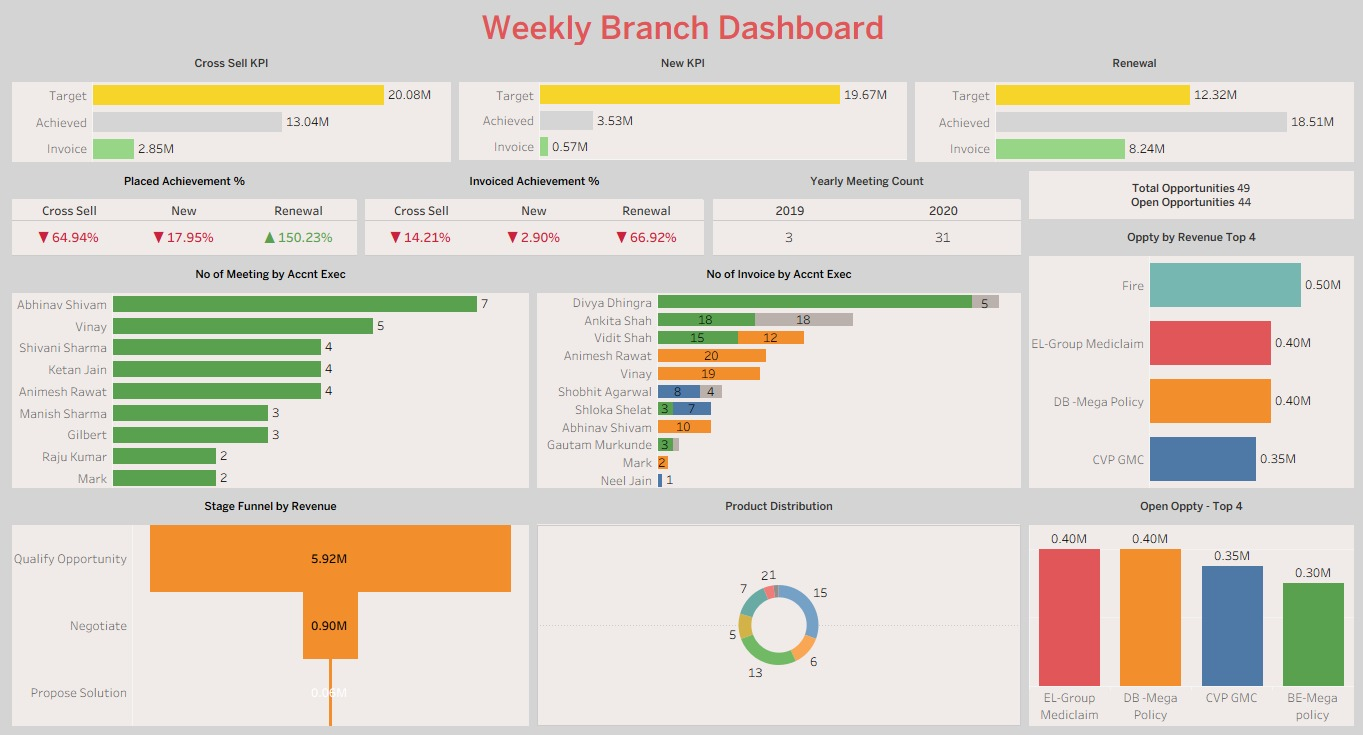

This screenshot's page, from the dashboard's own definition file:
{"tool":"tableau","page":{"name":"Weekly Branch Dashboard","canvas":[1000,1000],"units":"permille","ordinal":0},"visuals":[{"type":"text","box":[7,13.7,986,55.8]},{"type":"worksheet","title":"Cross Sell KPI","mark":"Automatic","box":[7,69.5,326.3,158.2]},{"type":"worksheet","title":"New KPI","mark":"Automatic","box":[333.3,69.5,333.4,158.2]},{"type":"worksheet","title":"Renewal KPI","mark":"Automatic","box":[666.6,69.5,326.4,158.2]},{"type":"worksheet","title":"Placed % Cards","mark":"Text","cols":["Calculation_1302436329992193"],"box":[7,227.7,258.1,125]},{"type":"worksheet","title":"Invoice % Cards","mark":"Text","cols":["Calculation_1302436329992193"],"box":[265.1,227.7,253.7,125]},{"type":"worksheet","title":"Yearly Meeting Count","mark":"Text","cols":["meeting_date"],"box":[518.8,227.7,231,125]},{"type":"worksheet","title":"Opportunity KPIs","mark":"Automatic","box":[749.8,227.7,243.2,75.3]},{"type":"worksheet","title":"Oppty by Revenue Top 4","mark":"Automatic","rows":["opportunity_name"],"cols":["revenue_amount"],"box":[749.8,303,243.2,363]},{"type":"worksheet","title":"Meetings by Exec","mark":"Automatic","rows":["Account Executive (meeting!list!202001231041)"],"cols":["meeting!list!202001231041_84411F9538AD4586827A4F2D97D018DF"],"box":[7,352.7,383.2,313.4]},{"type":"worksheet","title":"Invoices by Exec","mark":"Automatic","rows":["Account Executive (invoice!202001231041)"],"cols":["invoice!202001231041_B320B14825DB4EEDB93164D73A91ED6D"],"box":[390.2,352.7,359.6,313.4]},{"type":"worksheet","title":"Stage Funnel","mark":"GanttBar","rows":["stage"],"cols":["Calculation_1302712602550279"],"box":[7,666.1,383.2,320.2]},{"type":"worksheet","title":"Product Distribution","mark":"Pie","rows":["Calculation_1302712604336137","Calculation_1302712604356619"],"box":[390.2,666.1,359.6,320.2]},{"type":"worksheet","title":"Open Oppty - Top 4","mark":"Automatic","rows":["Calculation_1302712598863874"],"cols":["opportunity_name"],"box":[749.8,666.1,243.2,320.2]}]}

Visuals, with their boxes on the dashboard's canvas, which has no fixed pixel size, in thousandths of its width and height (x1, y1, x2, y2). These are canvas units, not pixel positions in the 1363x735 screenshot, which may show the page scaled, cropped or inside an application window:
text: region(7, 14, 993, 70)
"Cross Sell KPI" worksheet: region(7, 70, 333, 228)
"New KPI" worksheet: region(333, 70, 667, 228)
"Renewal KPI" worksheet: region(667, 70, 993, 228)
"Placed % Cards" worksheet (Text marks): region(7, 228, 265, 353)
"Invoice % Cards" worksheet (Text marks): region(265, 228, 519, 353)
"Yearly Meeting Count" worksheet (Text marks): region(519, 228, 750, 353)
"Opportunity KPIs" worksheet: region(750, 228, 993, 303)
"Oppty by Revenue Top 4" worksheet: region(750, 303, 993, 666)
"Meetings by Exec" worksheet: region(7, 353, 390, 666)
"Invoices by Exec" worksheet: region(390, 353, 750, 666)
"Stage Funnel" worksheet (GanttBar marks): region(7, 666, 390, 986)
"Product Distribution" worksheet (Pie marks): region(390, 666, 750, 986)
"Open Oppty - Top 4" worksheet: region(750, 666, 993, 986)
